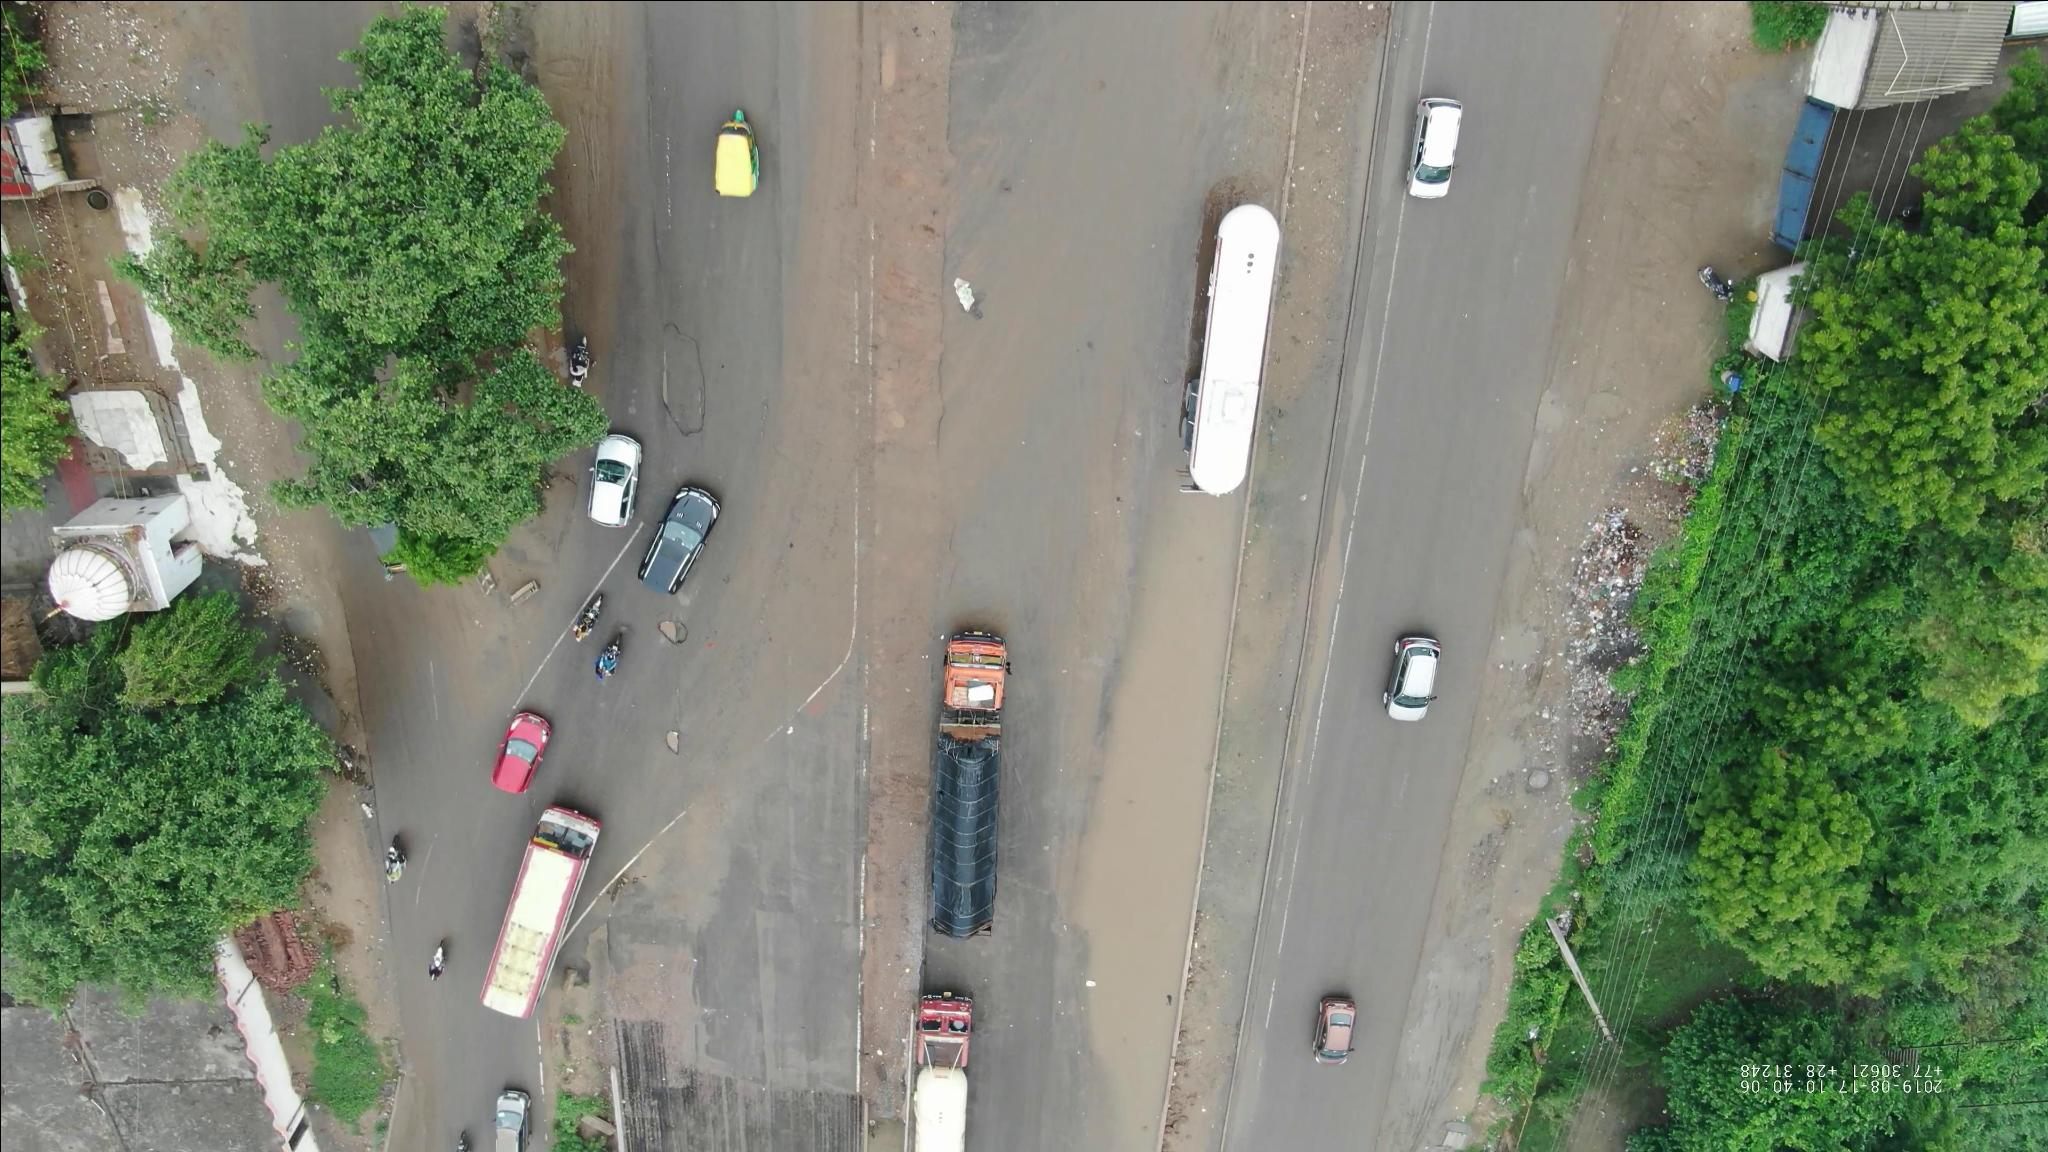Potholes: (629, 295, 723, 467), (647, 717, 717, 771), (1501, 755, 1568, 800), (657, 606, 715, 647)
Road_side_garbage: (1564, 371, 1733, 734)
Waterlogging: (1063, 487, 1248, 1134)
